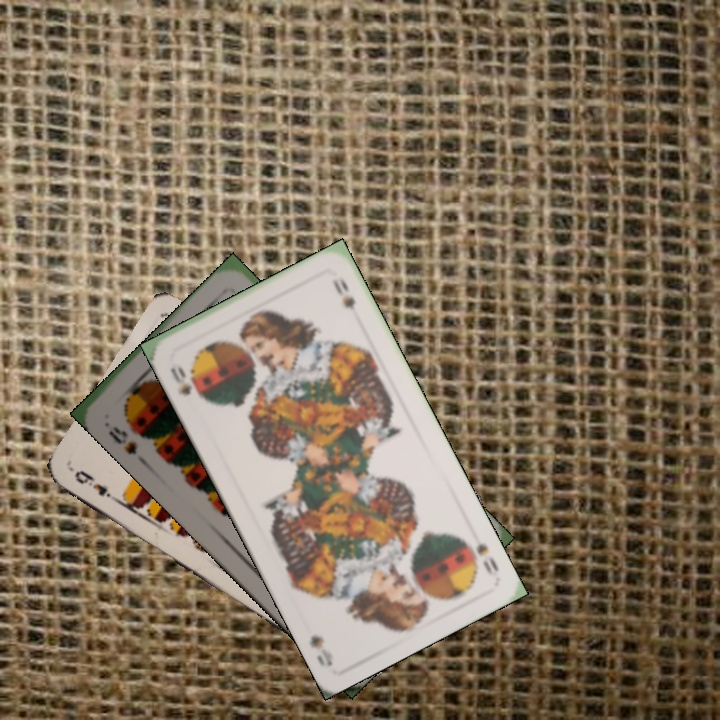E9: (70, 465, 120, 504)
S8: (104, 421, 140, 457)
SO: (472, 539, 501, 581), (166, 362, 194, 398)
